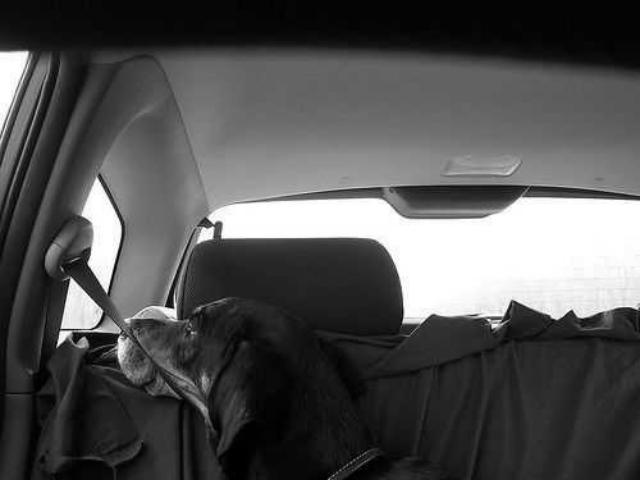Seatbelt: (36, 212, 208, 424)
